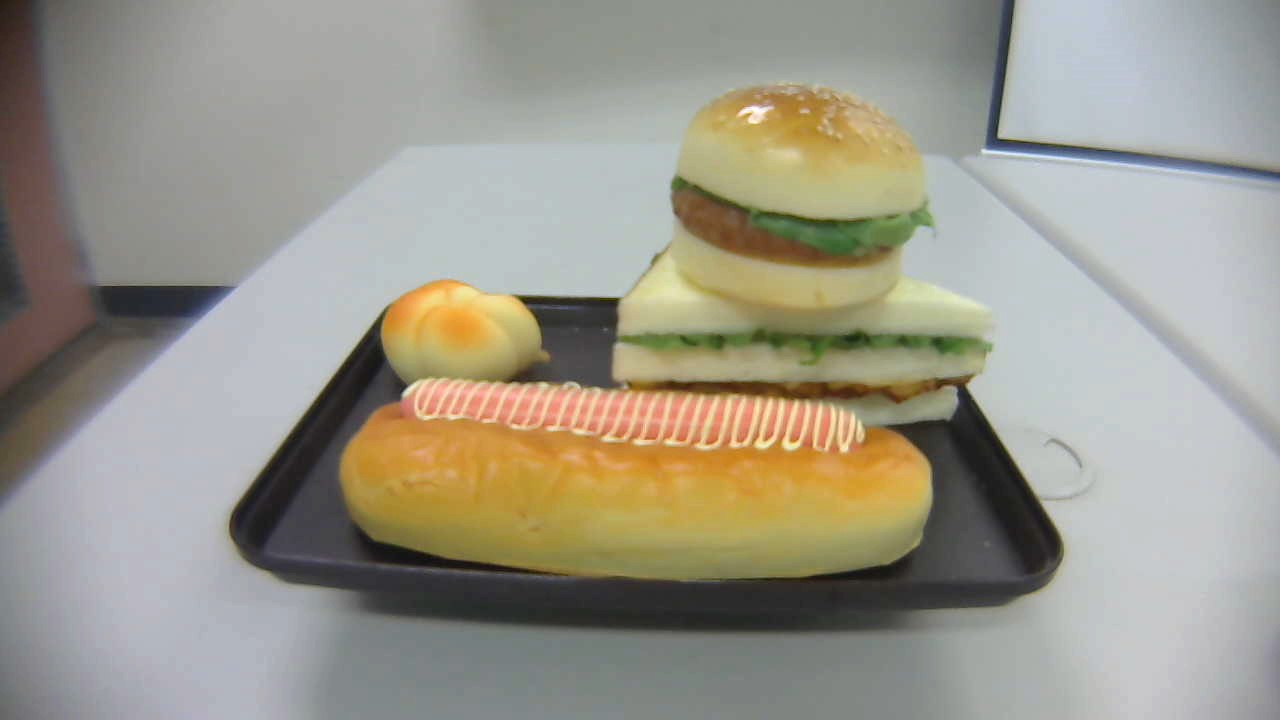hamburger: (668, 82, 932, 306)
hot dog: (338, 377, 934, 579)
sandwich: (615, 206, 994, 429)
twist bread: (379, 280, 551, 383)
